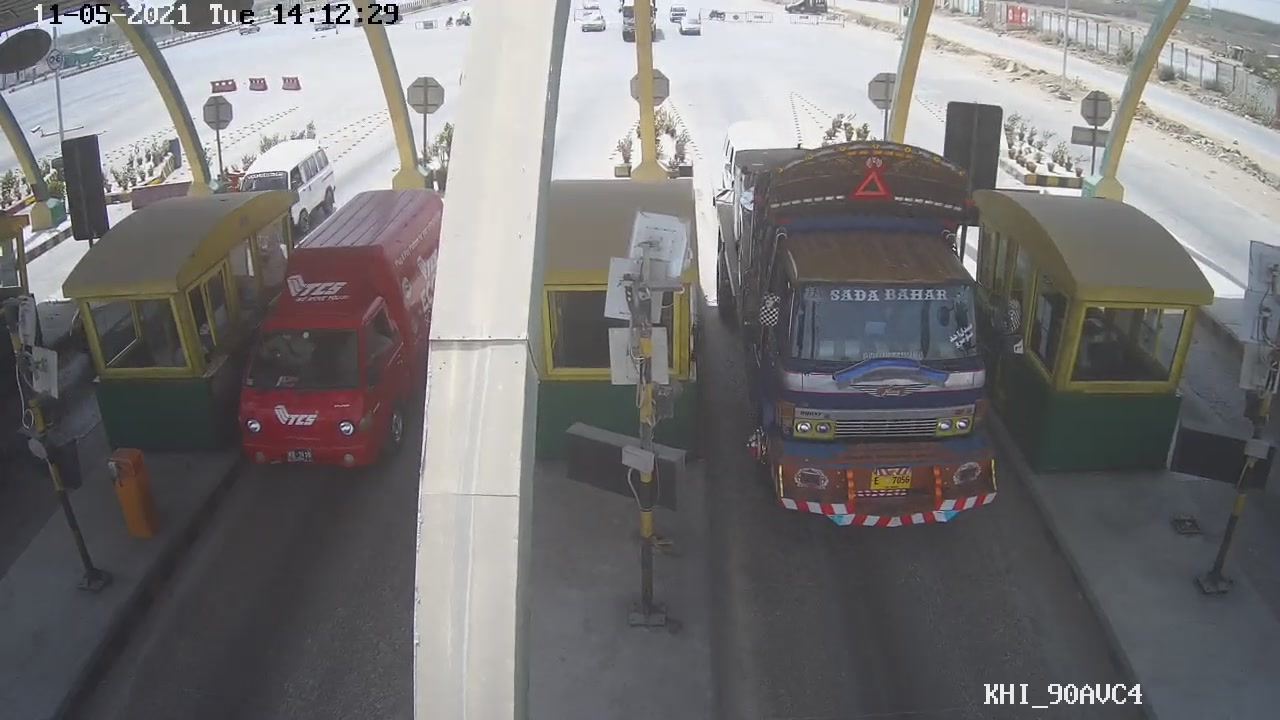F5: (717, 129, 992, 543)
